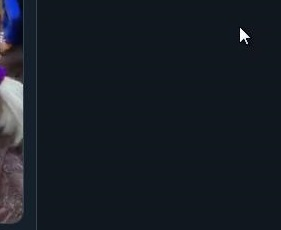cursor: (238, 26, 250, 45)
